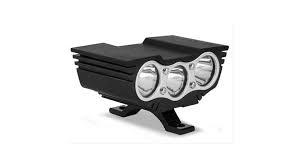Lamp: (68, 28, 232, 138)
